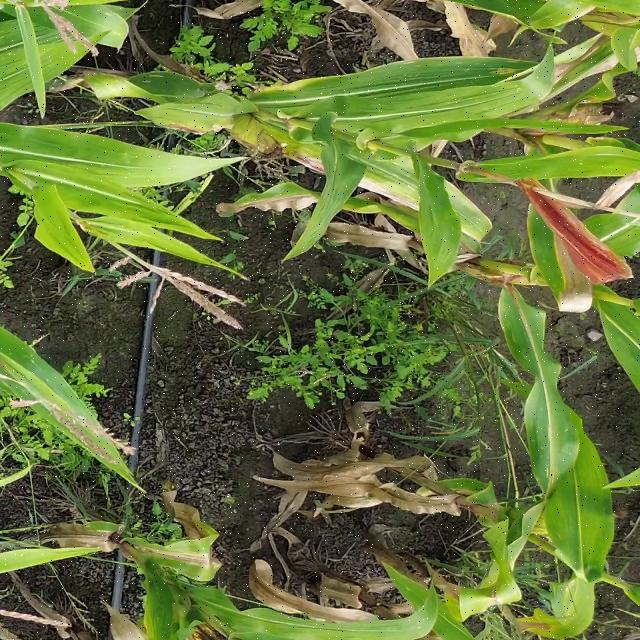gray-leaf-spot: (268, 146, 479, 236), (126, 61, 201, 114)
northern-leaf-blight: (128, 524, 243, 593)
southern-leaf-blight: (522, 388, 619, 556), (434, 41, 560, 135), (6, 326, 83, 406)
